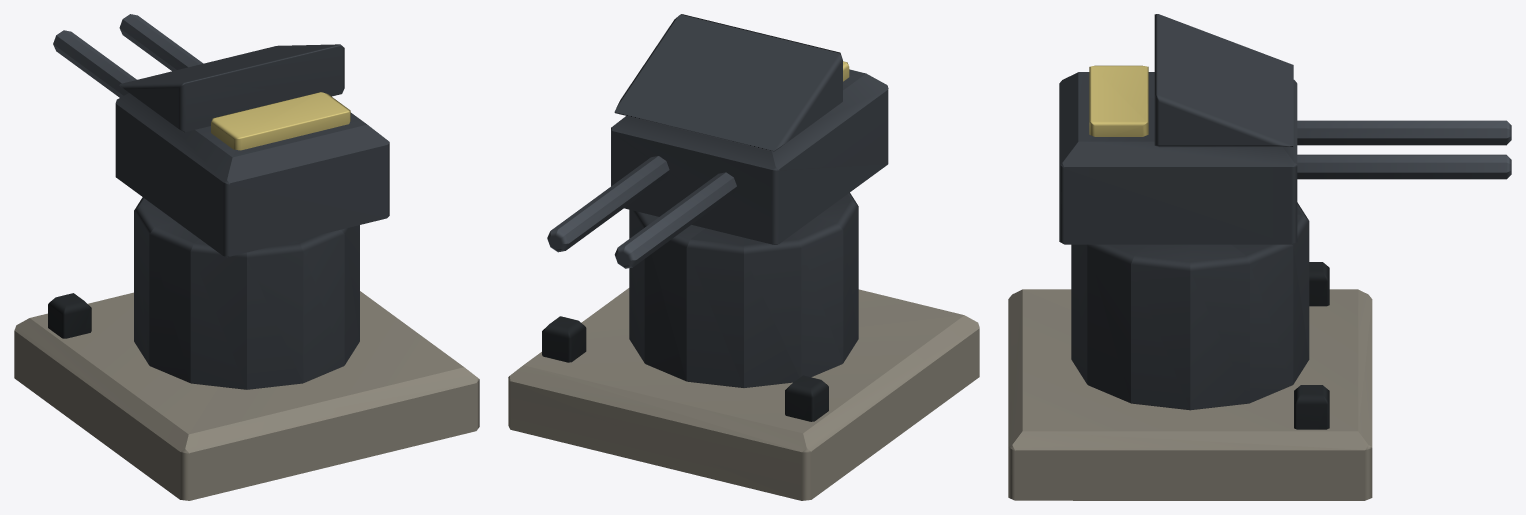
Rendered from at_turret.glb.
The picture shows the model from 3 angles, left to right: view 1: azimuth 30°, elevation 25°; view 2: azimuth 150°, elevation 25°; view 3: azimuth 270°, elevation 25°; orthographic projection. The views are drawn at different scales.
Visible parts, largest first — view 1: Body, Turret; view 2: Body, Turret; view 3: Body, Turret.
Boxes of the visible parts, <box> form: Body: <box>14,197,479,500</box>; Turret: <box>53,14,389,256</box>; Body: <box>508,192,979,500</box>; Turret: <box>547,14,888,268</box>; Body: <box>1008,202,1372,500</box>; Turret: <box>1059,14,1511,244</box>.
Size of the model in its own units: 3.06 by 3.44 by 4.23.
